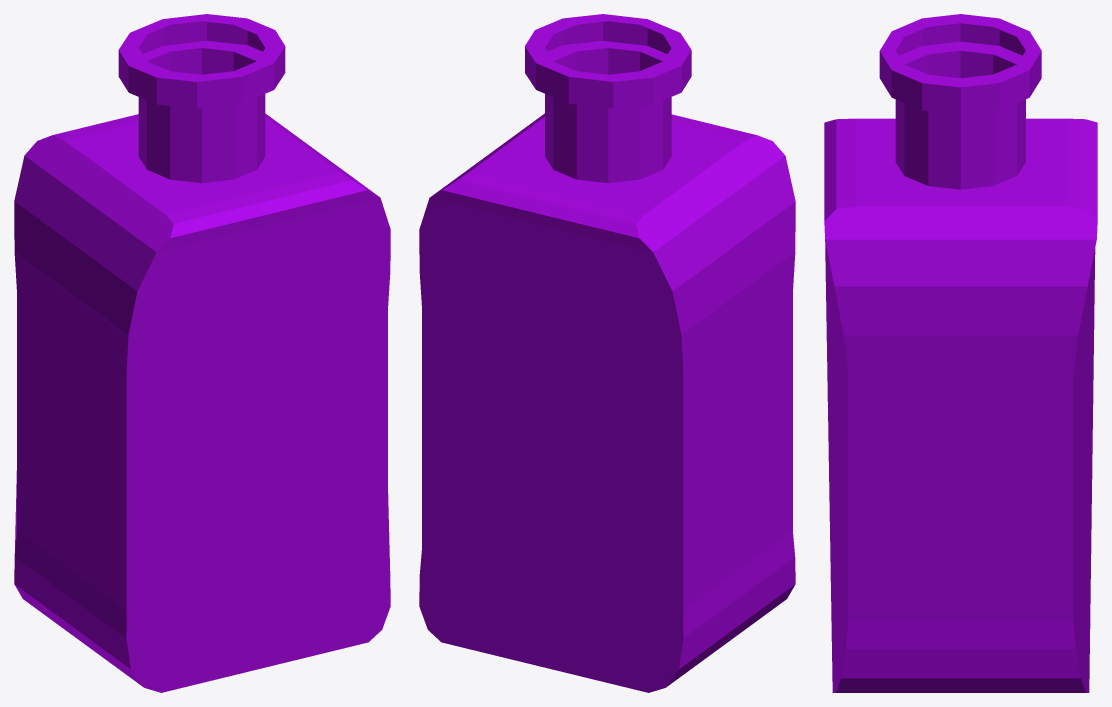
File: BOTELLA 3.fbx
3 renders of one model, left to right at view 1: azimuth 30°, elevation 25°; view 2: azimuth 150°, elevation 25°; view 3: azimuth 270°, elevation 25°, orthographic. The views are drawn at different scales.
Visible parts, largest first — view 1: BOTELLA 3; view 2: BOTELLA 3; view 3: BOTELLA 3.
Boxes of the visible parts, x1,y1,x2,y2 form: BOTELLA 3: (14, 14, 390, 692); BOTELLA 3: (419, 14, 795, 692); BOTELLA 3: (824, 14, 1097, 692).
Size of the model in its own units: 10.74 by 22.34 by 9.38.
